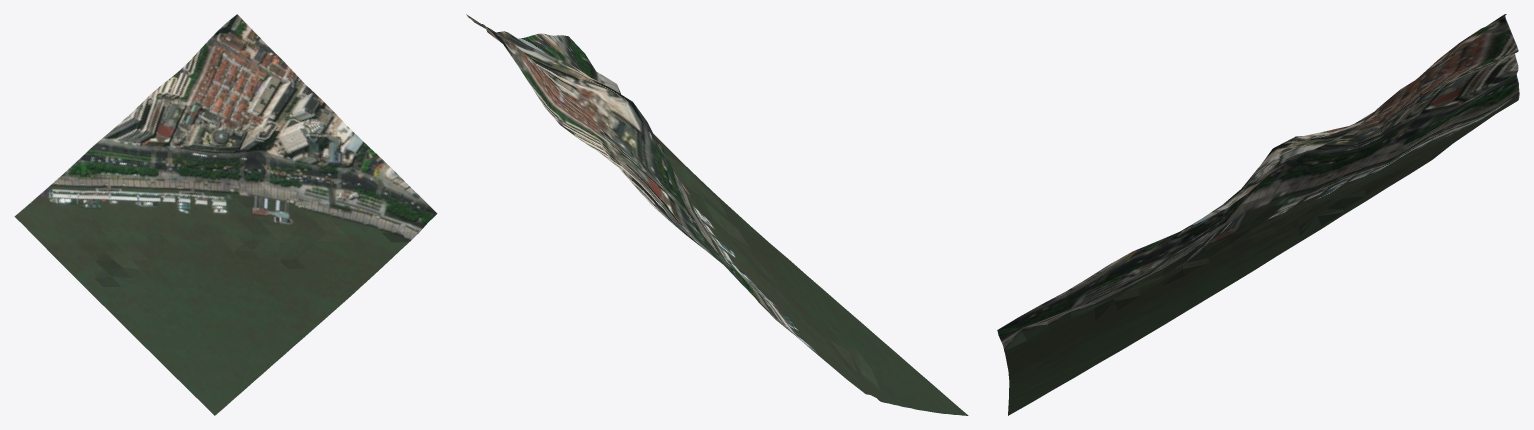
The picture shows the model from 3 angles, left to right: view 1: azimuth 30°, elevation 25°; view 2: azimuth 150°, elevation 25°; view 3: azimuth 270°, elevation 25°; orthographic projection. The views are drawn at different scales.
Bounding box in the file's own units: 582 × 522 × 453.
1 material, 1 textured.
